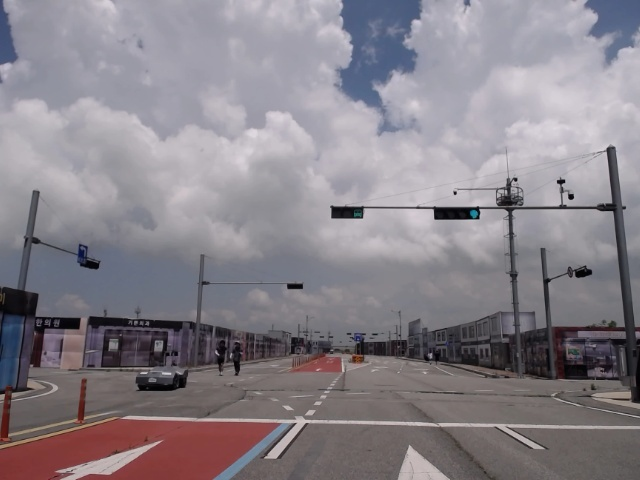straight_green_4: (434, 209, 480, 220)
